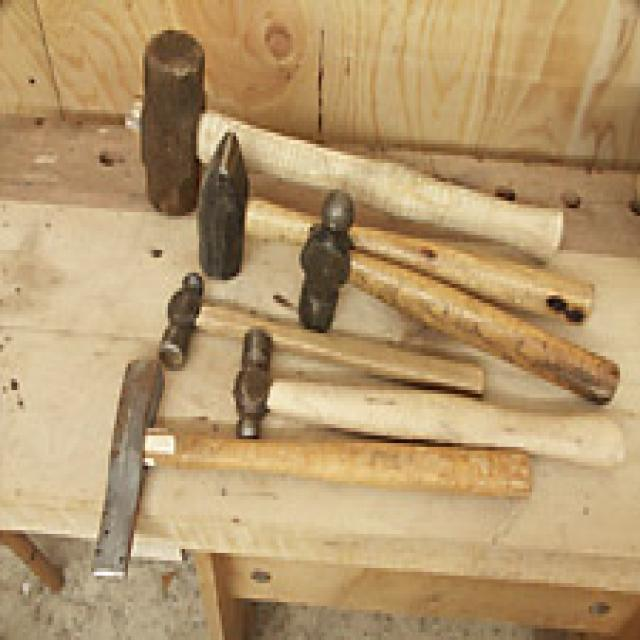hammer: (218, 313, 618, 482), (289, 181, 590, 393)
